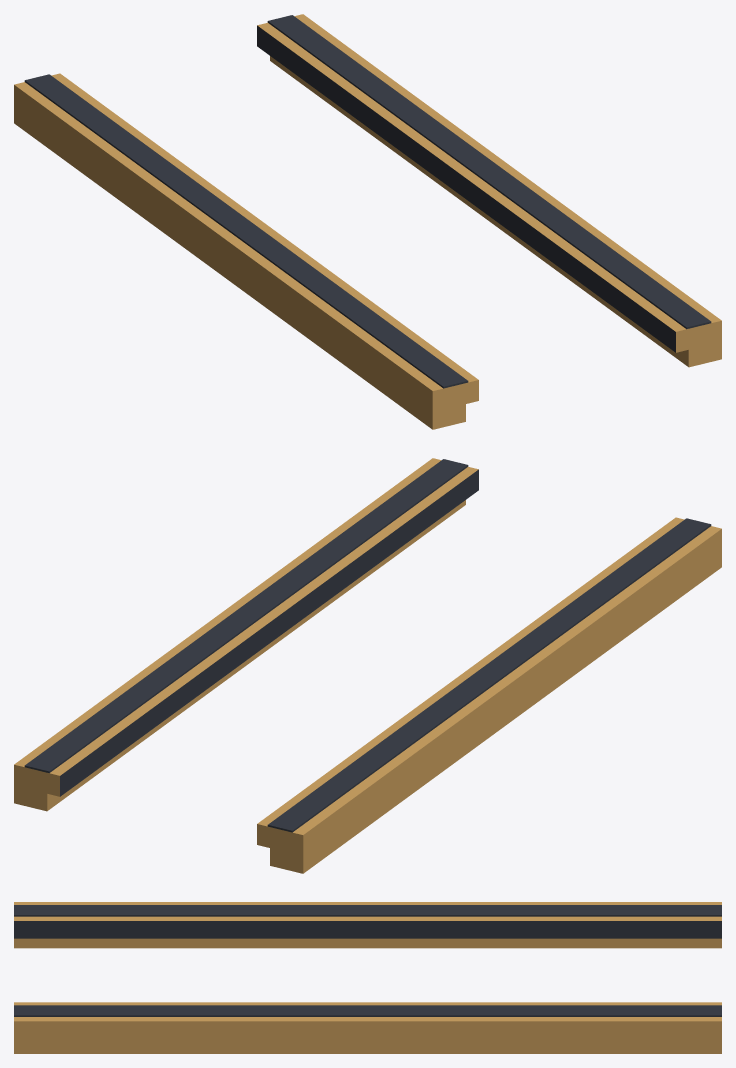
File: track_mockup_rails.fbx
3 renders of one model, top to bottom at view 1: azimuth 30°, elevation 25°; view 2: azimuth 150°, elevation 25°; view 3: azimuth 270°, elevation 25°, orthographic. The views are drawn at different scales.
Parts seen in each view (by area): view 1: track_mockup_rails; view 2: track_mockup_rails; view 3: track_mockup_rails.
Boxes of the visible parts, box(x1,y1,x2,y2) form: track_mockup_rails: box(14, 14, 721, 429); track_mockup_rails: box(14, 458, 721, 873); track_mockup_rails: box(14, 902, 721, 1053).
Size of the model in its own units: 0.3986 by 0.0533 by 1.
